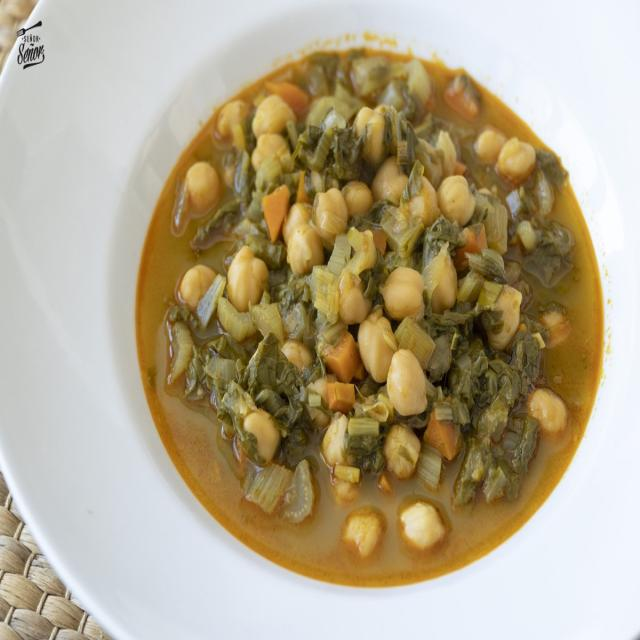garbanzos: (128, 28, 621, 594)
